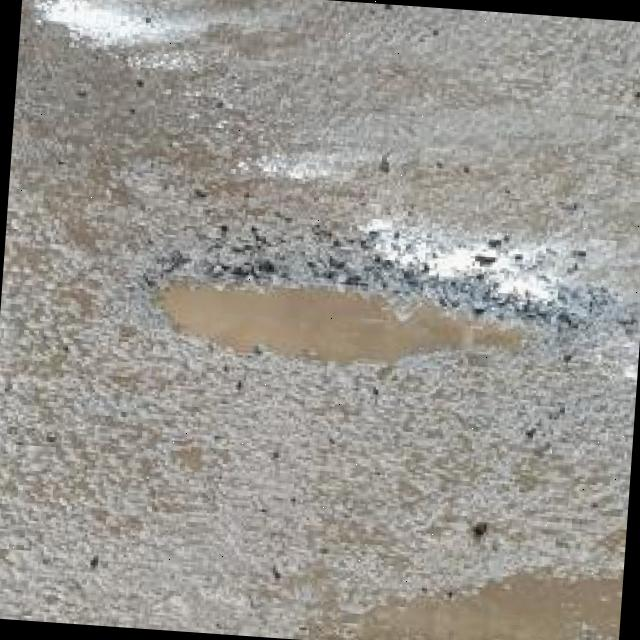stagnation: (138, 250, 535, 386)
